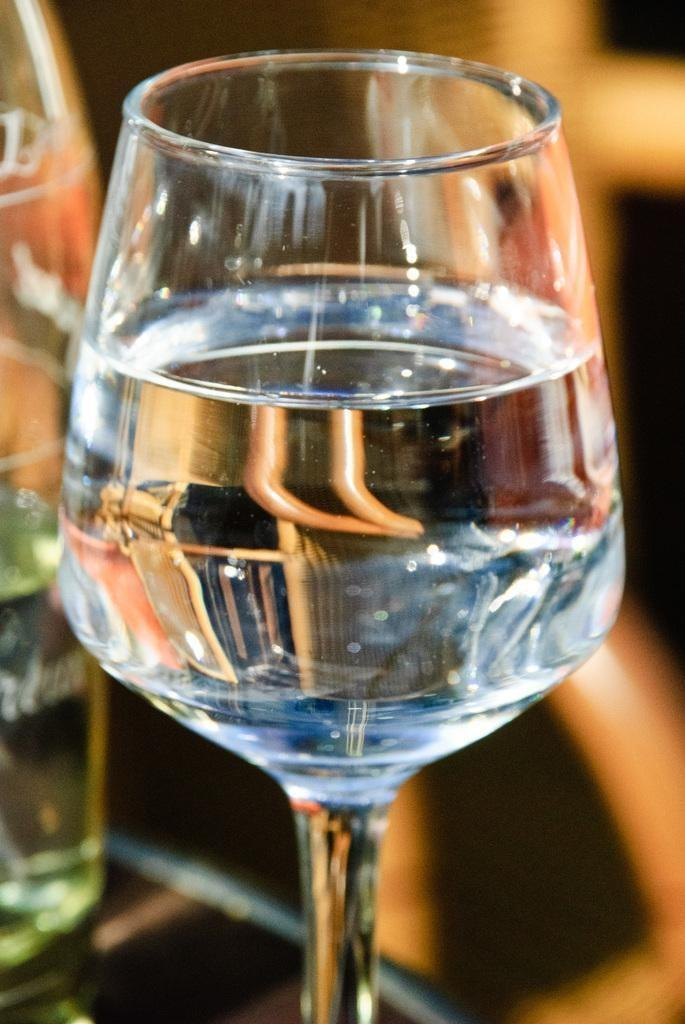glass-wine: (61, 45, 630, 1024)
